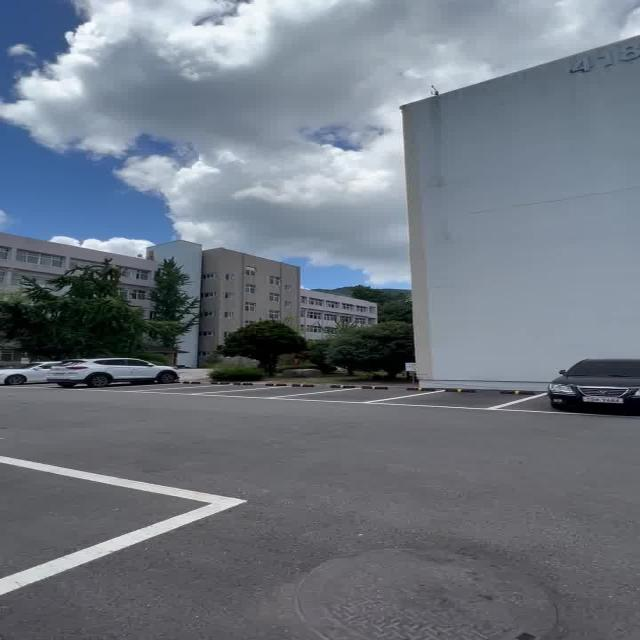building: (14, 238, 379, 340)
